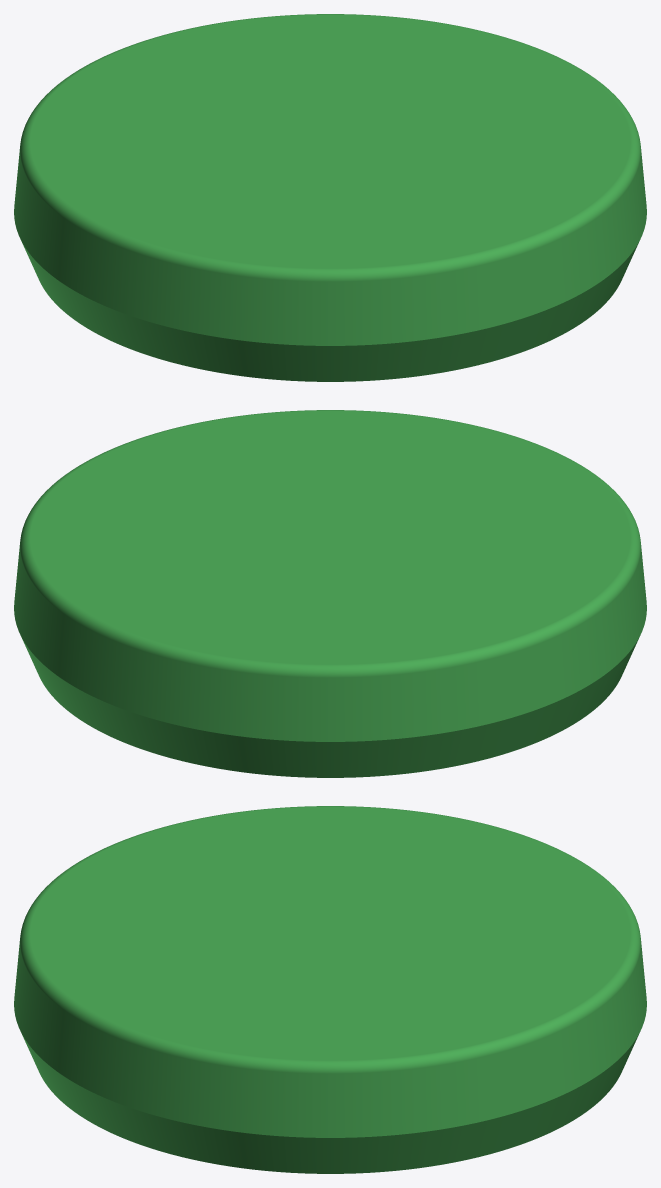
The model's file is MGN12R_CoverCap.obj.
3 renders of one model, top to bottom at view 1: azimuth 30°, elevation 25°; view 2: azimuth 150°, elevation 25°; view 3: azimuth 270°, elevation 25°, orthographic.
Parts seen in each view (by area): view 1: mesh4518, mesh4516, mesh4515, mesh4517; view 2: mesh4518, mesh4516, mesh4515, mesh4517; view 3: mesh4518, mesh4516, mesh4515, mesh4517.
Boxes of the visible parts, x1,y1,x2,y2 form: mesh4518: [30, 15, 630, 268]; mesh4516: [14, 149, 646, 345]; mesh4515: [20, 239, 640, 381]; mesh4517: [20, 14, 640, 281]; mesh4518: [30, 411, 630, 664]; mesh4516: [14, 545, 646, 741]; mesh4515: [20, 635, 640, 777]; mesh4517: [20, 410, 640, 677]; mesh4518: [30, 807, 630, 1060]; mesh4516: [14, 941, 646, 1137]; mesh4515: [20, 1031, 640, 1173]; mesh4517: [20, 806, 640, 1073].
Bounding box in the file's own units: 0.006 × 0.0012 × 0.006.
